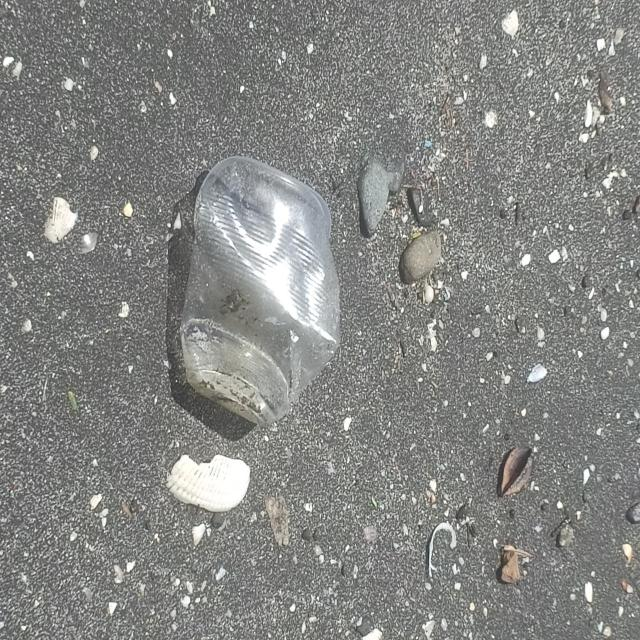plastic_waste: (179, 156, 343, 431)
